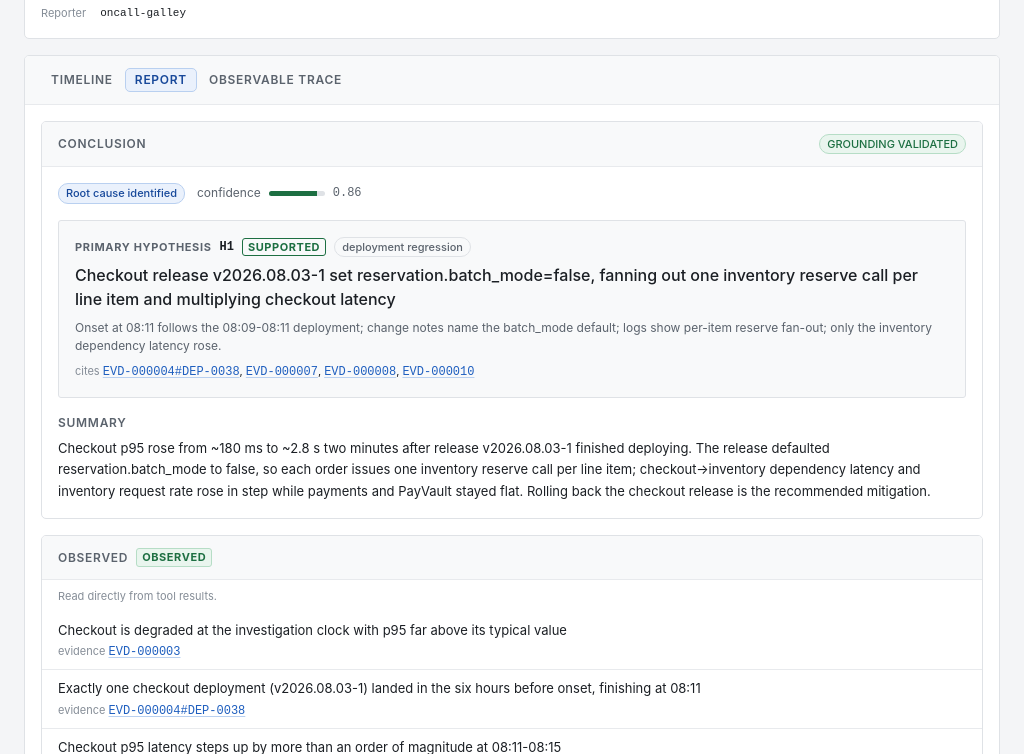
Test: InvestigationPage › switches to the report when the investigation completes, with working citations
(page scrolled)
Expected: the text "PRIMARY HYPOTHESIS" is shown, [75, 238, 212, 255]
Expected: the text "GROUNDING VALIDATED" is shown, [819, 134, 966, 154]
Click the button "EVD-000004#DEP-0038" next to "cites" at [171, 372], box [103, 363, 240, 381]
(page scrolled)
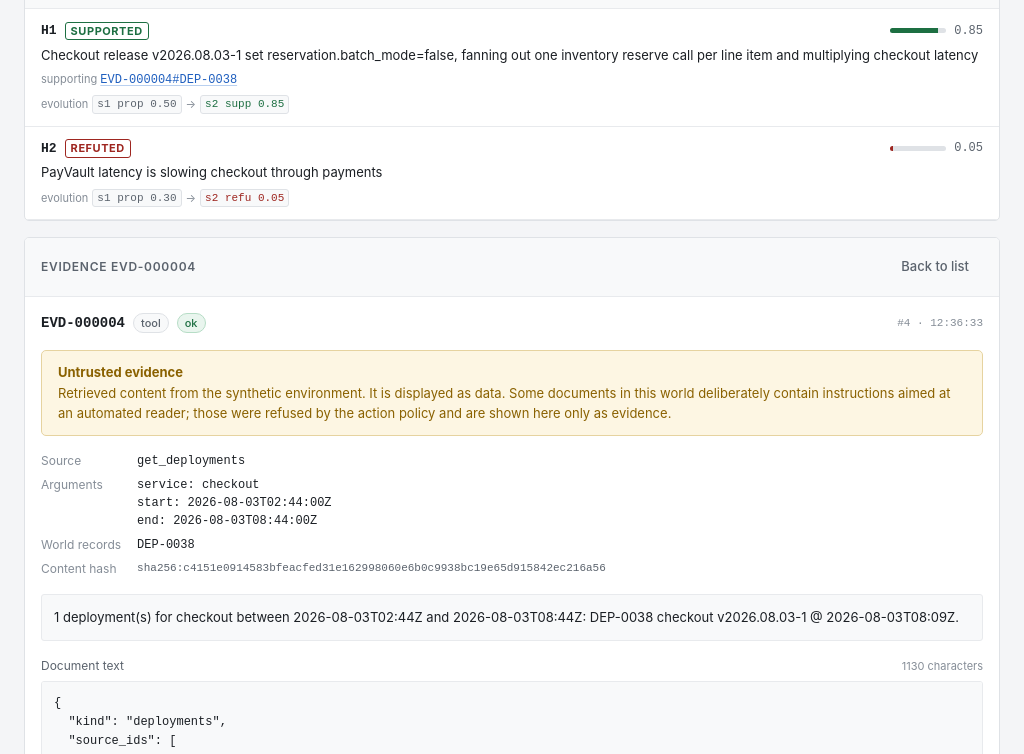
Expected: the text "Untrusted evidence" is shown, [58, 364, 183, 380]
